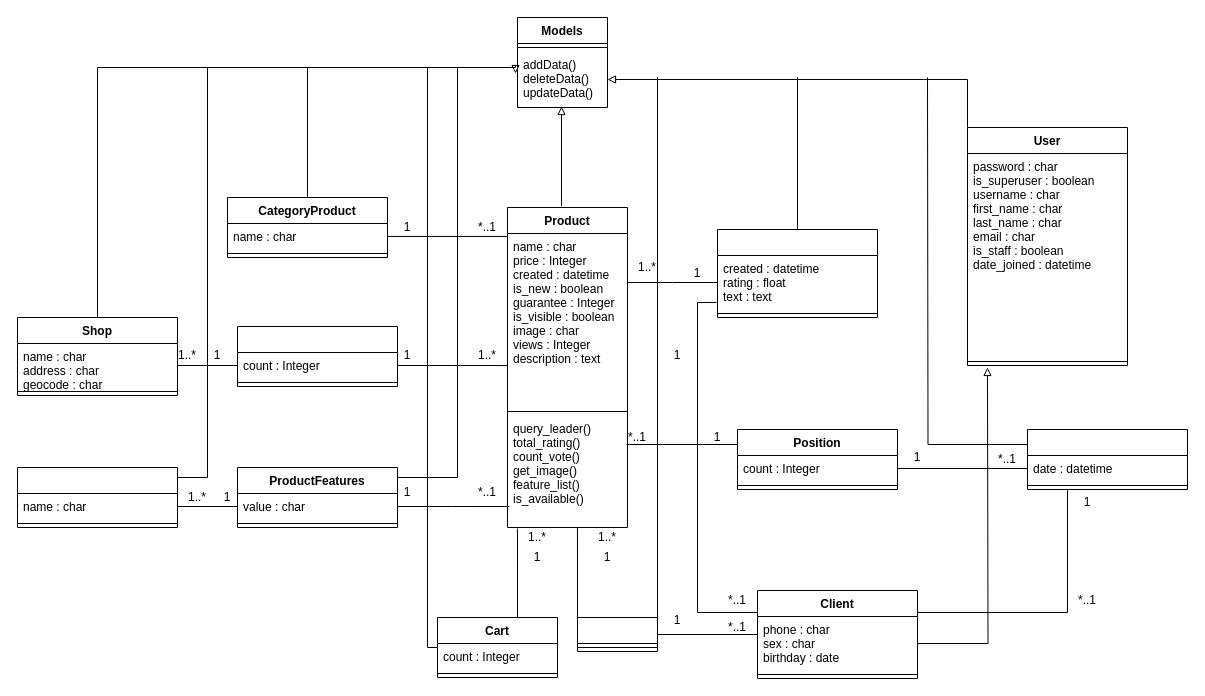
The diagram is 1205 pixels wide and 696 high, and some of its shapes have lost their labels. Here are the shapes that lost their labels. From the top down, the box of each, then its label:
(716, 228, 878, 318): Comments
(236, 326, 398, 386): ProductShop
(1026, 428, 1188, 490): HistorySales
(16, 466, 178, 528): Feature
(576, 616, 658, 652): Wishes
